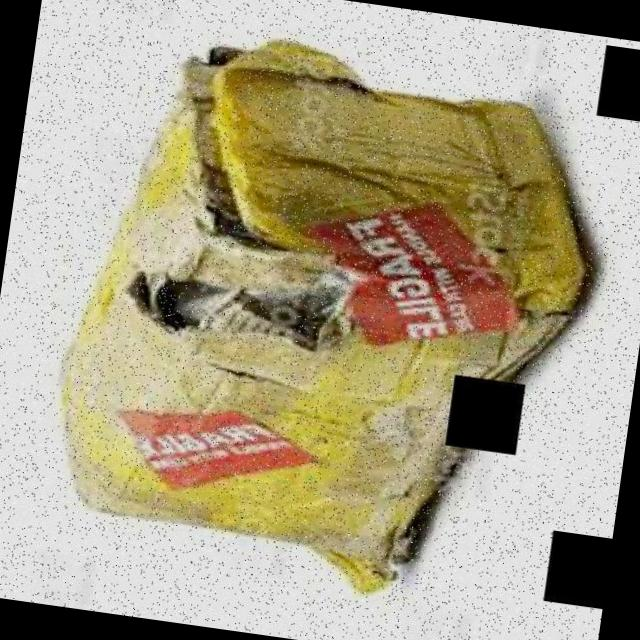box: (28, 9, 625, 624)
